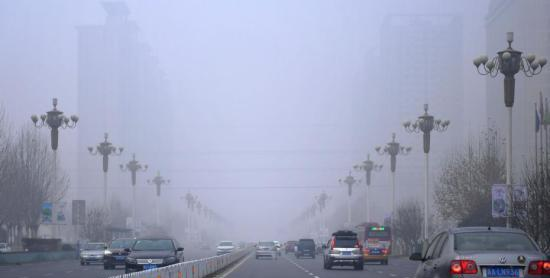bus: (352, 222, 391, 261)
car: (408, 225, 550, 277), (124, 236, 185, 277), (322, 230, 363, 271), (103, 237, 142, 269), (360, 239, 389, 265), (80, 242, 111, 266), (252, 240, 280, 260), (294, 238, 316, 259), (215, 241, 235, 257), (263, 241, 283, 256), (284, 240, 300, 255), (1, 243, 11, 255), (199, 241, 210, 251), (235, 241, 246, 250)
